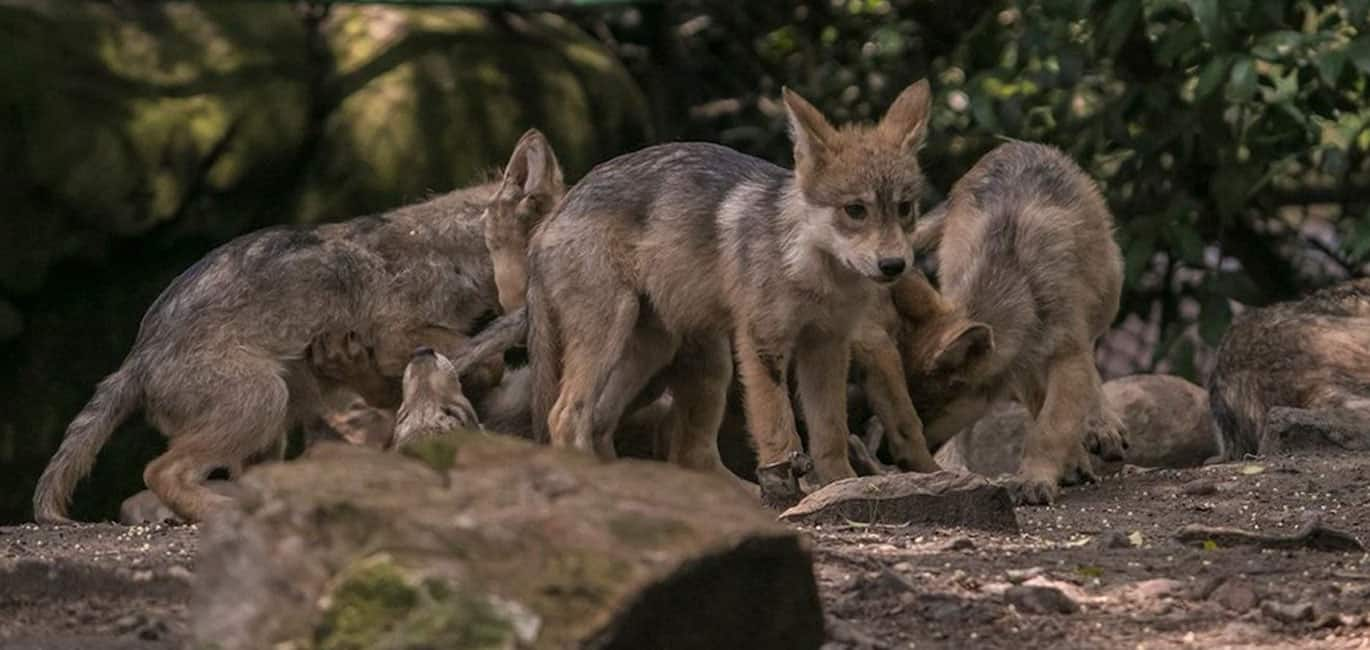Lobo: (46, 147, 538, 526), (538, 98, 898, 519), (913, 135, 1130, 510)
